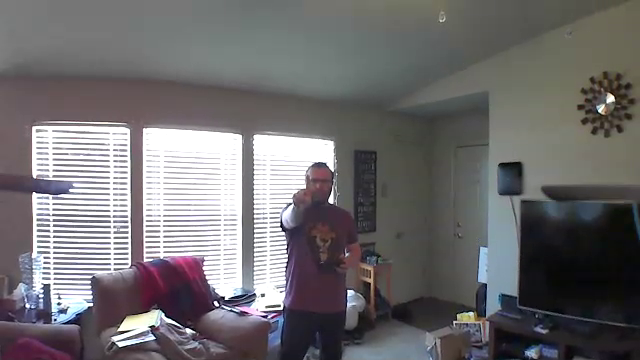up: (290, 173, 314, 213)
